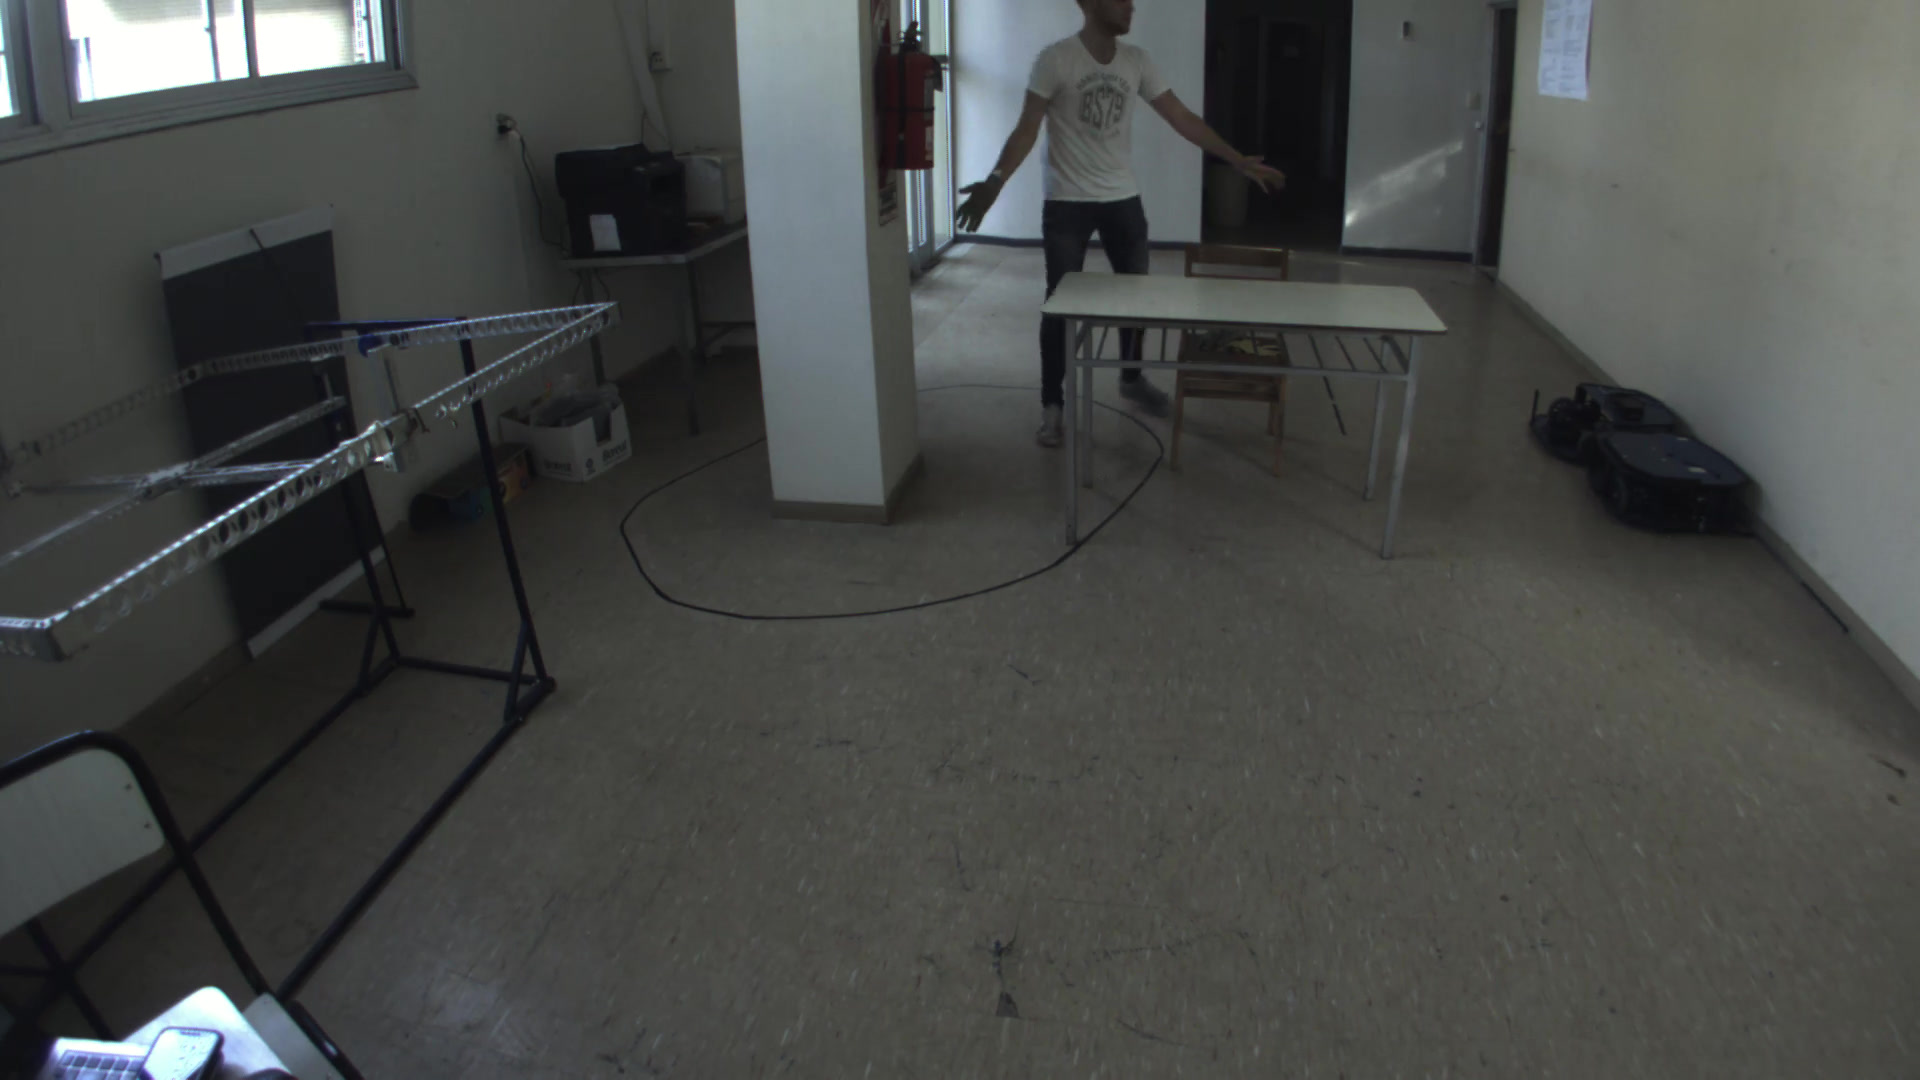hand: (949, 162, 1021, 235), (1232, 153, 1290, 204)
